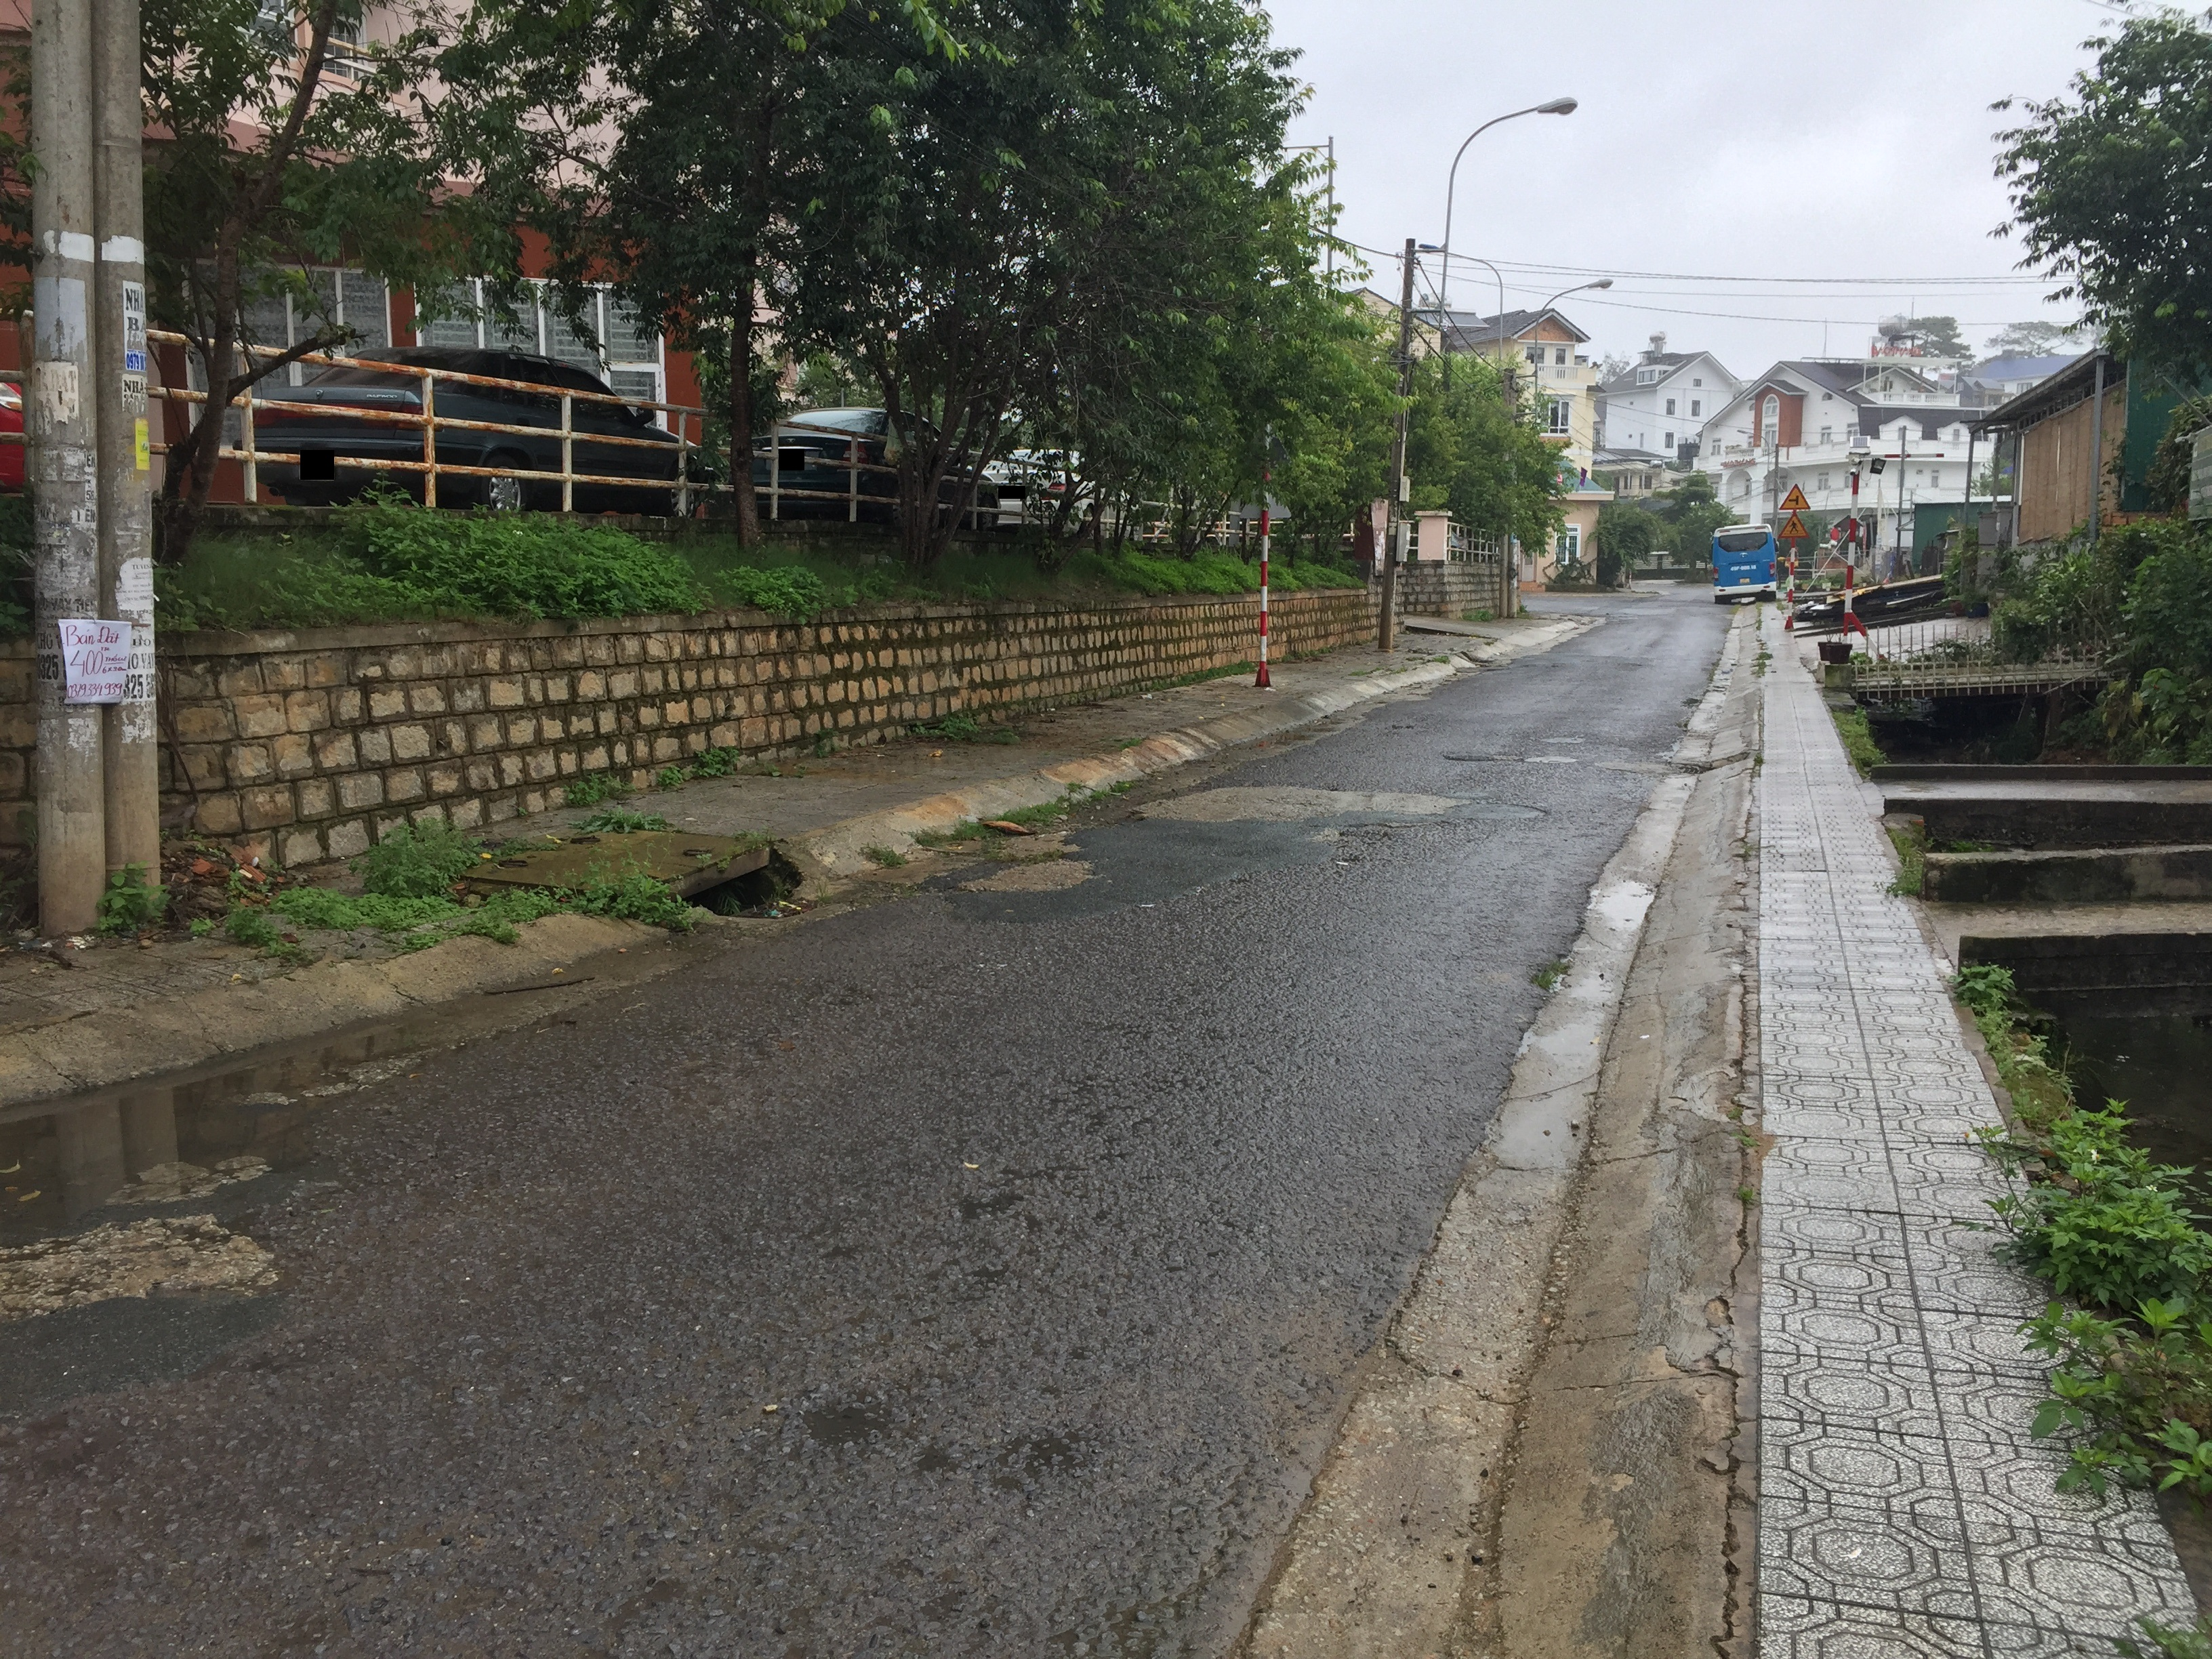hole: (1440, 800, 1548, 819), (1308, 821, 1397, 843), (1089, 809, 1146, 824), (1446, 751, 1512, 763), (1524, 755, 1576, 762), (1540, 735, 1585, 742), (1390, 723, 1418, 730)
